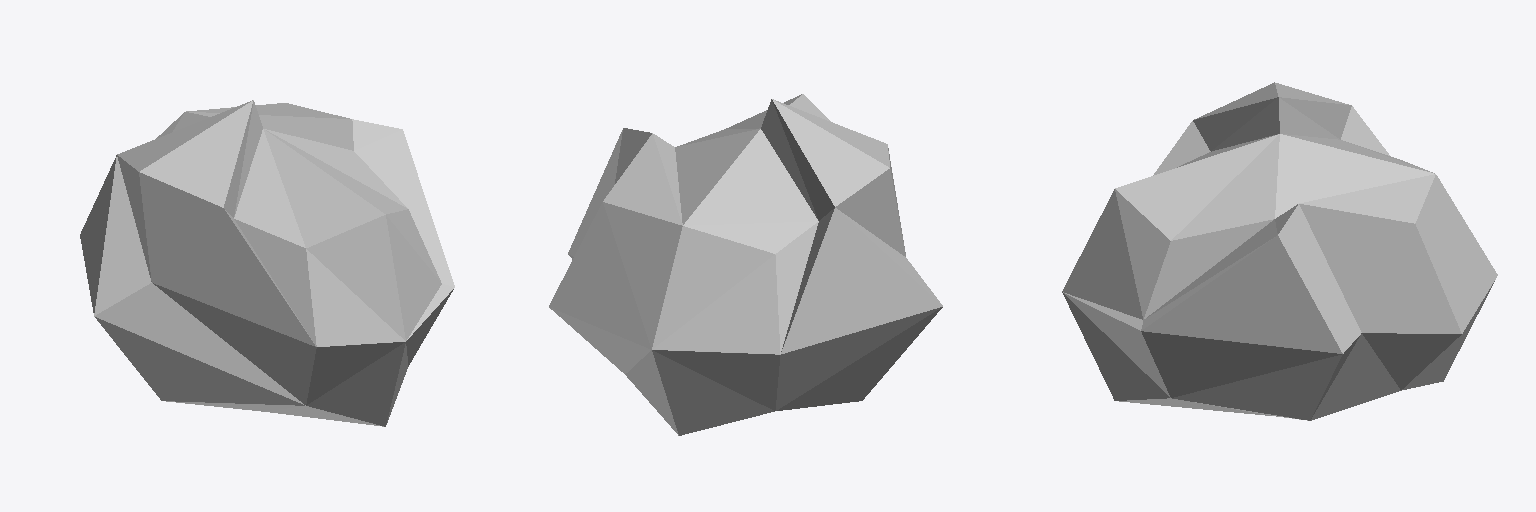
File: asteroid.obj
3 views of the same model, side by side, from view 1: azimuth 30°, elevation 25°; view 2: azimuth 150°, elevation 25°; view 3: azimuth 270°, elevation 25° (orthographic).
Parts seen in each view (by area): view 1: cube1; view 2: cube1; view 3: cube1.
Part boxes in pixels (left/top/right/bottom): cube1: left=80, top=100, right=454, bottom=426; cube1: left=549, top=94, right=942, bottom=435; cube1: left=1062, top=82, right=1497, bottom=420.
Bounding box in the file's own units: 2.49 × 2.22 × 2.79.